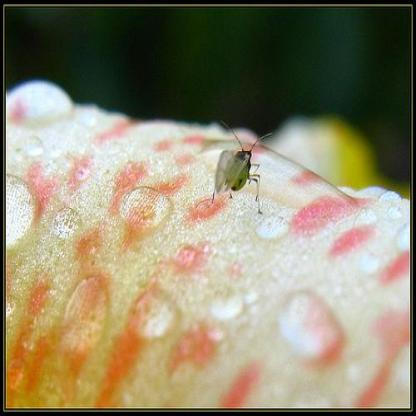aphid: (195, 116, 273, 210)
